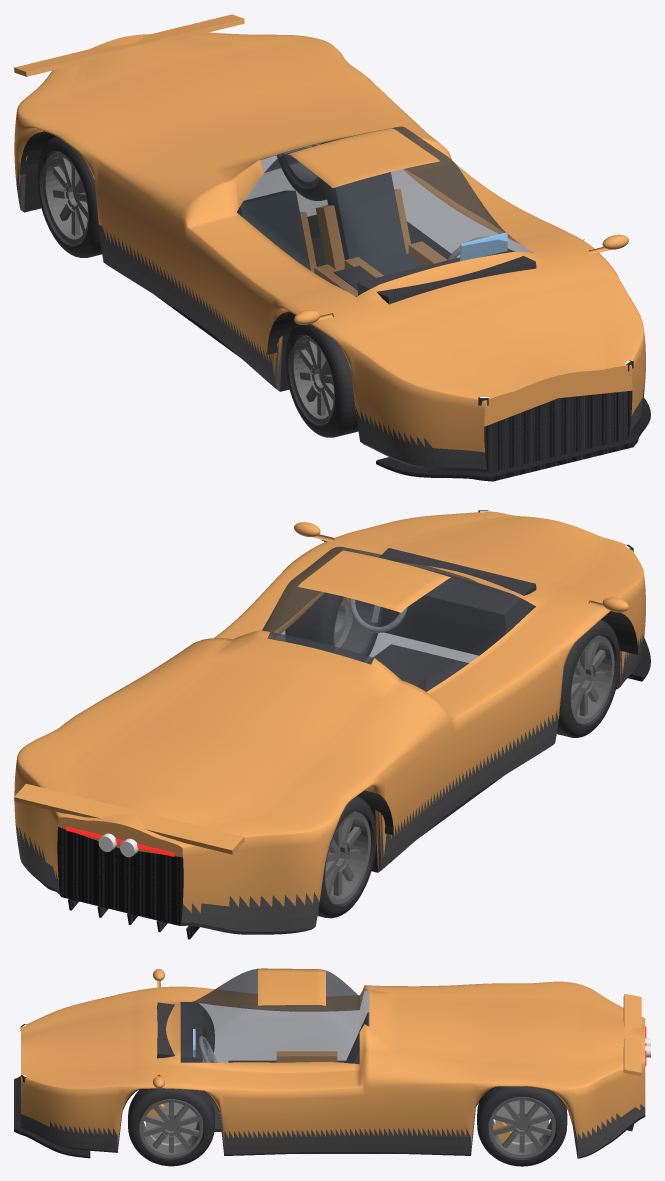
The model's file is lamborghini-revuelto.glb.
3 views of the same model, one above another, from view 1: azimuth 30°, elevation 25°; view 2: azimuth 150°, elevation 25°; view 3: azimuth 270°, elevation 25° (orthographic). The views are drawn at different scales.
Parts seen in each view (by area): view 1: Body_PrimaryPaint, Glass_Windows, Carbon_Exterior, Body_SecondaryPaint, Interior_Seats, Interior_SeatBolsters, Tire_FR, Rim_RR, Rim_FR, Tire_RR, Body_Spoiler, Interior_Dashboard (+3 smaller); view 2: Body_PrimaryPaint, Glass_Windows, Body_SecondaryPaint, Carbon_Exterior, Interior_Dashboard, Body_Spoiler, Underbody, Rim_RR, Rim_FR, Tire_FR, Interior_Tub, Tire_FL (+4 smaller); view 3: Body_PrimaryPaint, Glass_Windows, Body_SecondaryPaint, Tire_FL, Tire_RL, Rim_RL, Rim_FL, Interior_Dashboard, Body_Spoiler, Underbody, Carbon_Exterior, Interior_SeatBolsters (+6 smaller).
Boxes of the visible parts, left/top/right/bottom form: Body_PrimaryPaint: left=14, top=32, right=645, bottom=452; Glass_Windows: left=237, top=126, right=532, bottom=296; Carbon_Exterior: left=376, top=390, right=650, bottom=481; Body_SecondaryPaint: left=16, top=161, right=644, bottom=472; Interior_Seats: left=237, top=172, right=423, bottom=275; Interior_SeatBolsters: left=300, top=189, right=446, bottom=296; Tire_FR: left=285, top=324, right=358, bottom=437; Rim_RR: left=42, top=151, right=88, bottom=244; Rim_FR: left=291, top=335, right=334, bottom=423; Tire_RR: left=37, top=136, right=101, bottom=257; Body_Spoiler: left=14, top=14, right=244, bottom=76; Interior_Dashboard: left=357, top=248, right=536, bottom=304; Body_PrimaryPaint: left=14, top=511, right=645, bottom=912; Glass_Windows: left=262, top=546, right=535, bottom=691; Body_SecondaryPaint: left=15, top=631, right=644, bottom=934; Carbon_Exterior: left=57, top=637, right=650, bottom=939; Interior_Dashboard: left=379, top=548, right=536, bottom=633; Body_Spoiler: left=14, top=783, right=244, bottom=854; Underbody: left=24, top=606, right=617, bottom=895; Rim_RR: left=325, top=811, right=370, bottom=904; Rim_FR: left=570, top=635, right=614, bottom=723; Tire_FR: left=557, top=620, right=620, bottom=737; Interior_Tub: left=373, top=644, right=468, bottom=691; Tire_FL: left=285, top=592, right=382, bottom=656; Body_PrimaryPaint: left=21, top=968, right=645, bottom=1145; Glass_Windows: left=180, top=968, right=369, bottom=1063; Body_SecondaryPaint: left=21, top=1104, right=645, bottom=1157; Tire_FL: left=128, top=1089, right=214, bottom=1166; Tire_RL: left=477, top=1086, right=567, bottom=1166; Rim_RL: left=488, top=1097, right=555, bottom=1158; Rim_FL: left=139, top=1099, right=203, bottom=1157; Interior_Dashboard: left=157, top=1002, right=202, bottom=1062; Body_Spoiler: left=623, top=993, right=641, bottom=1076; Underbody: left=21, top=1086, right=645, bottom=1158; Carbon_Exterior: left=14, top=1076, right=634, bottom=1158; Interior_SeatBolsters: left=276, top=1051, right=337, bottom=1062.
Size of the model in its own units: 2.18 by 1.16 by 5.05.
17 materials, 2 textured.
